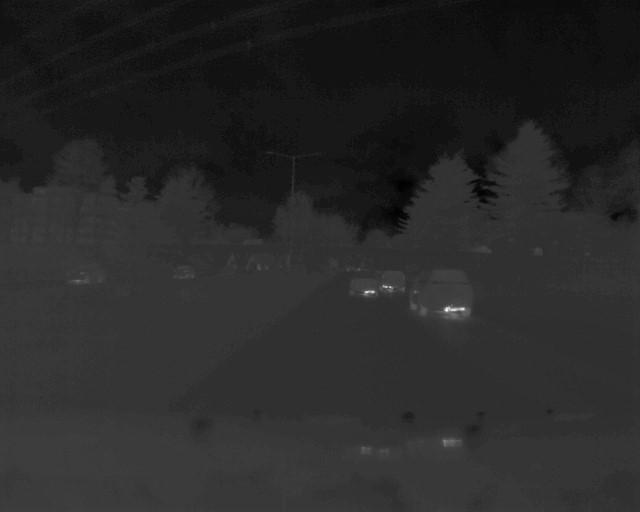car: (408, 266, 475, 324), (67, 261, 108, 288), (378, 267, 405, 299)
